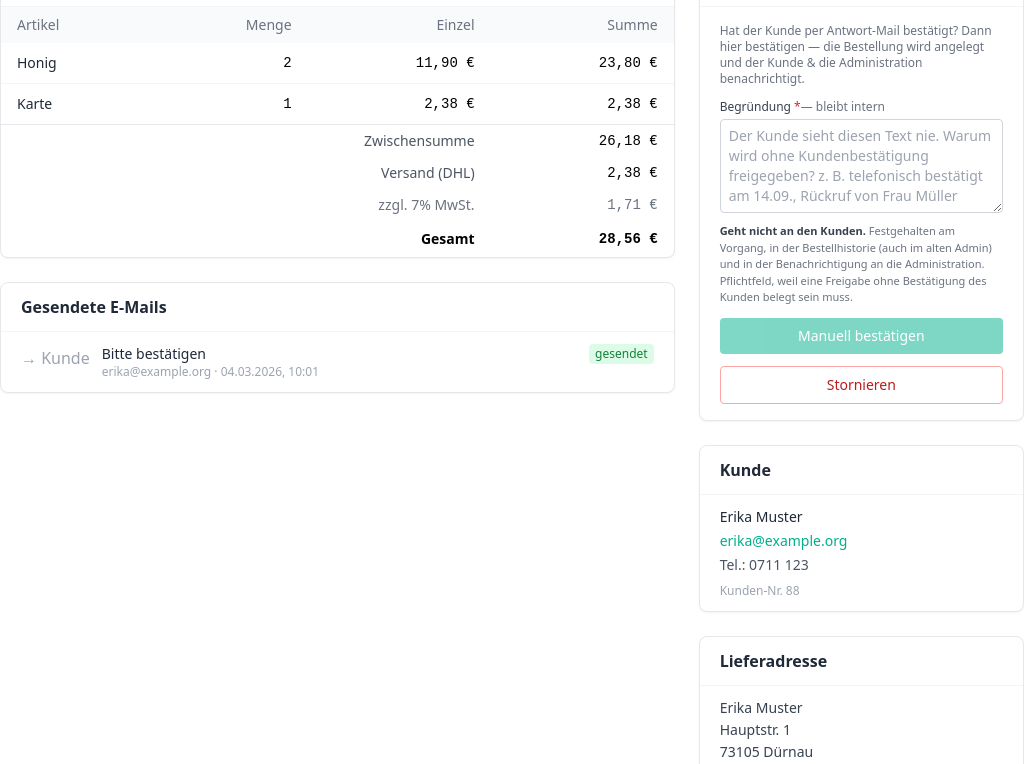
confirming by hand › shows what went wrong when cancelling
This screenshot has width=1024, height=764.
(page scrolled)
Click the button "Stornieren": (861,384) 720,366 -> 1003,404
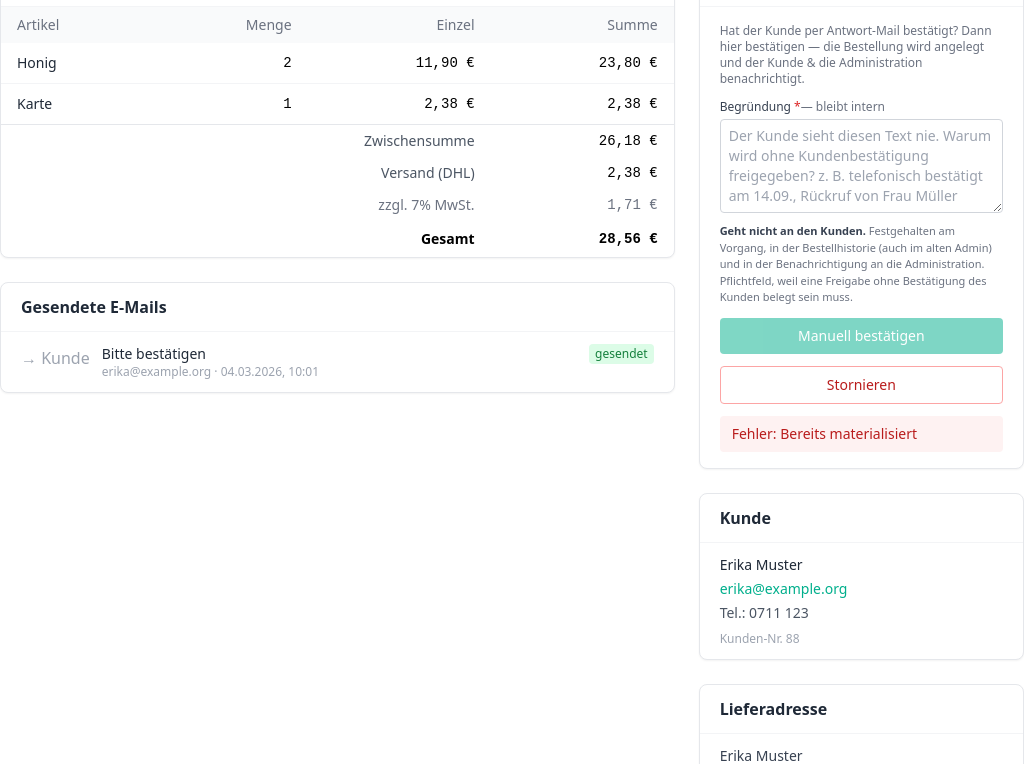
expect the text "Fehler: Bereits materialisiert" is shown: met, box 720,416 -> 1003,452
